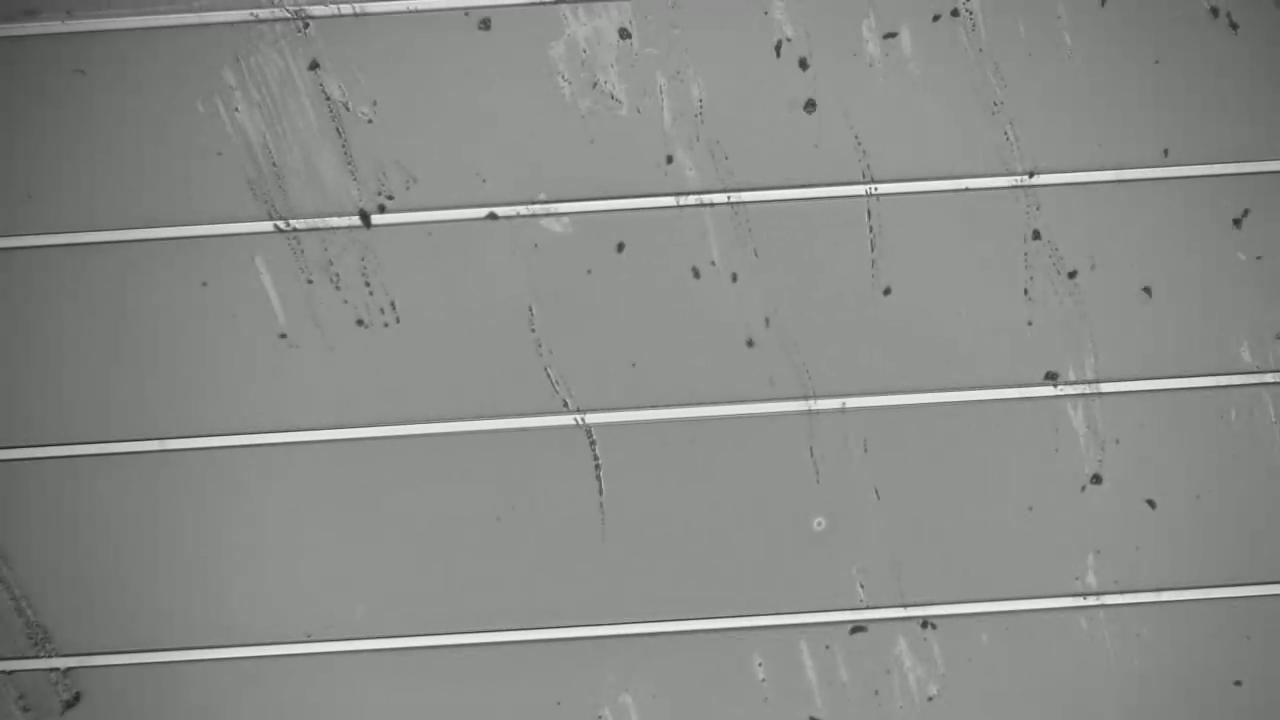scratch: (961, 23, 1083, 349), (291, 23, 410, 334), (521, 299, 618, 550), (1, 463, 96, 717), (824, 93, 892, 294)
stains_enbedded: (479, 195, 509, 232), (354, 199, 378, 236)
